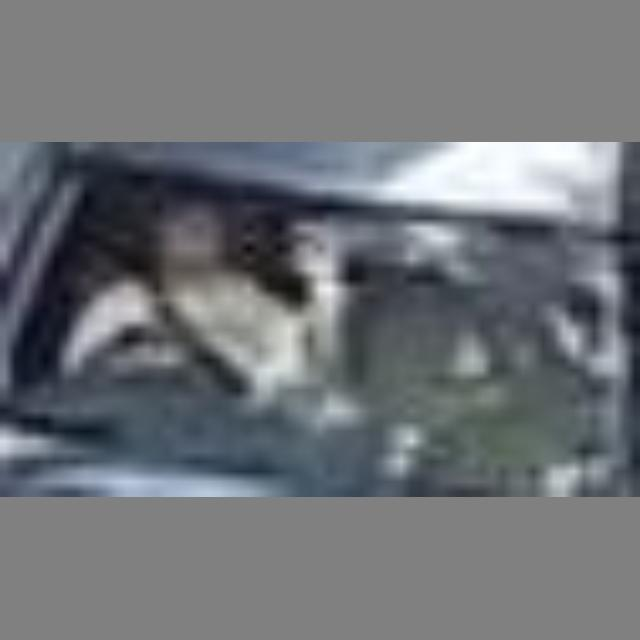pakai: (81, 223, 305, 406)
